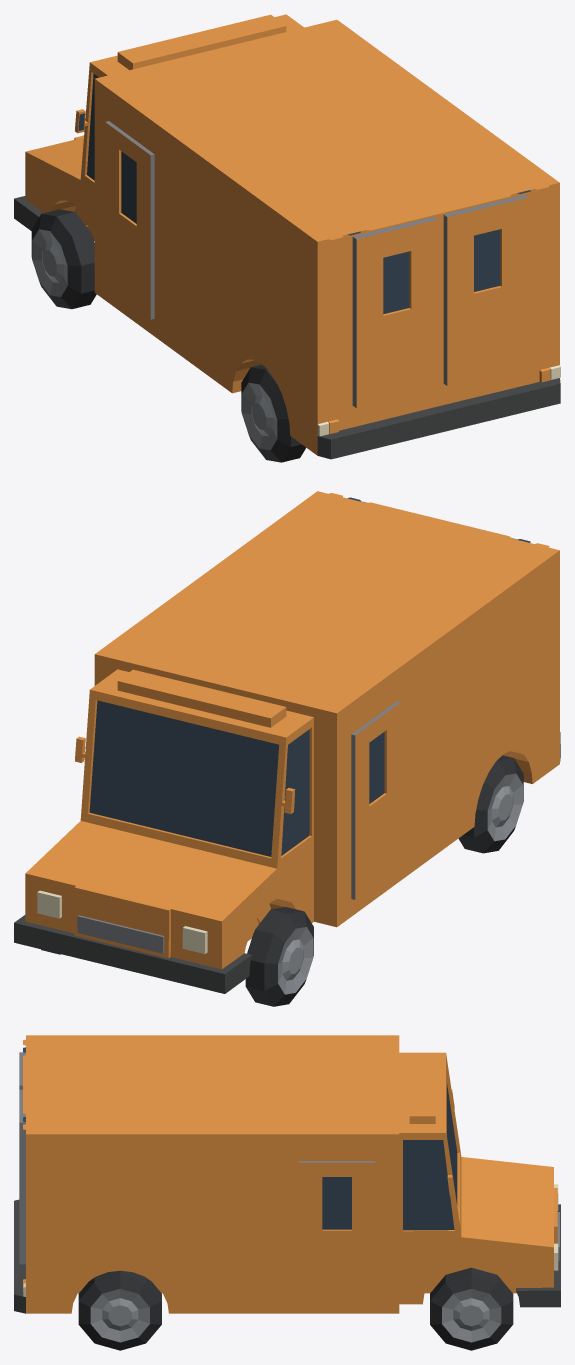
Rendered from delivery-van.glb.
3 renders of one model, top to bottom at view 1: azimuth 30°, elevation 25°; view 2: azimuth 150°, elevation 25°; view 3: azimuth 270°, elevation 25°, orthographic. The views are drawn at different scales.
Parts seen in each view (by area): view 1: Body, WheelFrontRight, WheelRearRight; view 2: Body, WheelFrontRight, WheelRearRight; view 3: Body, WheelFrontLeft, WheelRearLeft.
Part boxes in pixels (left/top/right/bottom): Body: left=14, top=14, right=560, bottom=459; WheelFrontRight: left=31, top=209, right=96, bottom=309; WheelRearRight: left=241, top=364, right=305, bottom=462; Body: left=14, top=491, right=560, bottom=993; WheelFrontRight: left=245, top=907, right=313, bottom=1006; WheelRearRight: left=458, top=755, right=523, bottom=853; Body: left=14, top=1035, right=560, bottom=1313; WheelFrontLeft: left=430, top=1267, right=513, bottom=1350; WheelRearLeft: left=78, top=1270, right=161, bottom=1350.
Bounding box in the file's own units: 1.86 × 1.85 × 4.2.
